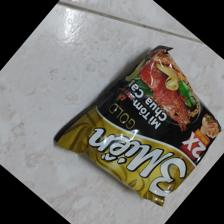3mien: (53, 45, 223, 208)
